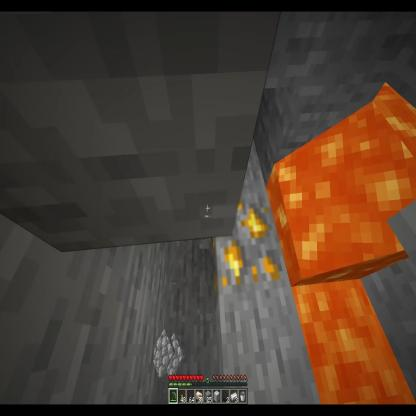gold ore: (214, 183, 280, 307)
